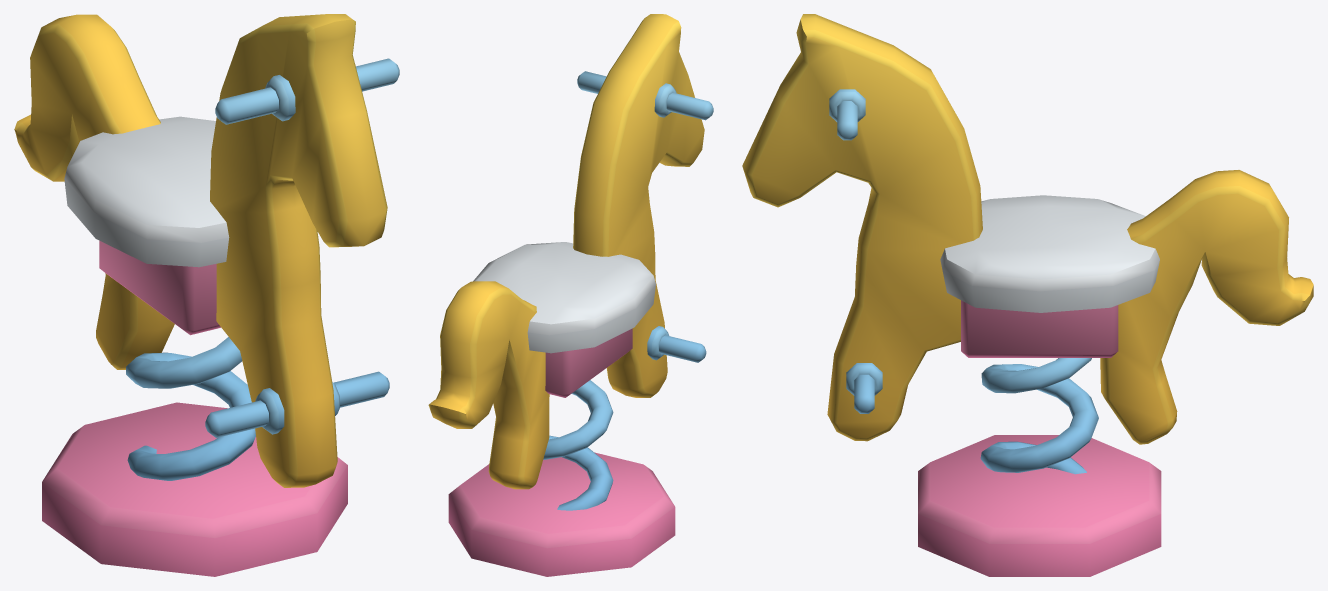
The model's file is tt_spring_horse.glb.
3 views of the same model, side by side, from view 1: azimuth 30°, elevation 25°; view 2: azimuth 150°, elevation 25°; view 3: azimuth 270°, elevation 25° (orthographic). The views are drawn at different scales.
Parts seen in each view (by area): view 1: spring_horse_A_seat, spring_horse_A; view 2: spring_horse_A_seat, spring_horse_A; view 3: spring_horse_A_seat, spring_horse_A.
Boxes of the visible parts, x1,y1,x2,y2 form: spring_horse_A_seat: (14, 14, 399, 487); spring_horse_A: (42, 402, 347, 576); spring_horse_A_seat: (428, 14, 713, 510); spring_horse_A: (448, 452, 675, 576); spring_horse_A_seat: (742, 14, 1313, 474); spring_horse_A: (918, 435, 1161, 576).
Bounding box in the file's own units: 1 × 2.3 × 2.35.
Materials: 1 (1 with a texture image).
